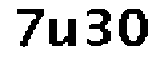0: (115, 4, 150, 52)
3: (83, 7, 114, 49)
7: (12, 5, 46, 48)
u: (48, 14, 81, 52)
